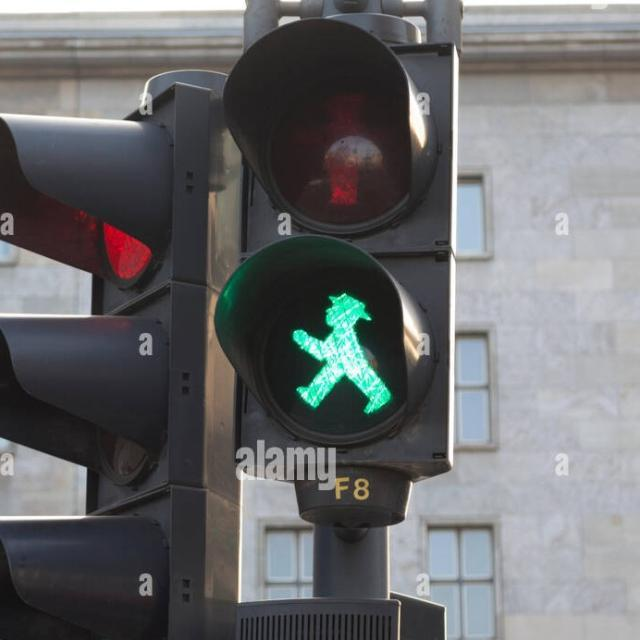geen-crossing: (270, 283, 409, 427)
